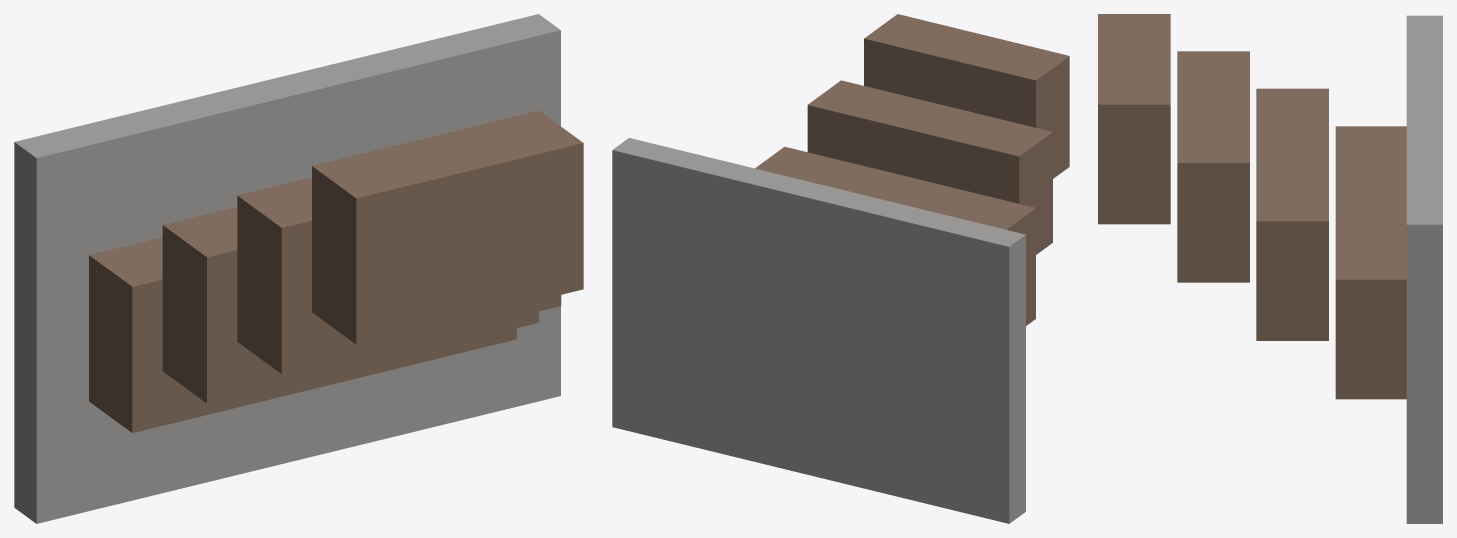
The picture shows the model from 3 angles, left to right: view 1: azimuth 30°, elevation 25°; view 2: azimuth 150°, elevation 25°; view 3: azimuth 270°, elevation 25°; orthographic projection. The views are drawn at different scales.
Visible parts, largest first — view 1: H04_part_0, H04_part_4, H04_part_1, H04_part_2, H04_part_3; view 2: H04_part_0, H04_part_3, H04_part_4, H04_part_2; view 3: H04_part_1, H04_part_0, H04_part_2, H04_part_3, H04_part_4.
Boxes of the visible parts, x1,y1,x2,y2 form: H04_part_0: [14, 14, 560, 523]; H04_part_4: [312, 110, 583, 344]; H04_part_1: [89, 237, 516, 432]; H04_part_2: [162, 207, 538, 403]; H04_part_3: [237, 177, 561, 373]; H04_part_0: [612, 138, 1025, 523]; H04_part_3: [807, 80, 1052, 254]; H04_part_4: [864, 14, 1069, 178]; H04_part_2: [755, 146, 1035, 325]; H04_part_1: [1335, 126, 1406, 399]; H04_part_0: [1406, 15, 1442, 523]; H04_part_2: [1256, 88, 1328, 340]; H04_part_3: [1177, 51, 1249, 282]; H04_part_4: [1098, 14, 1170, 224].
Bounding box in the file's own units: 1.5 × 1.18 × 1.04.
